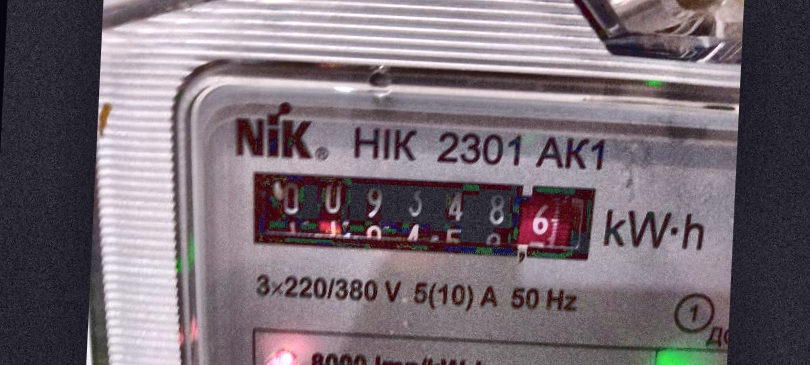0: (321, 180, 344, 217), (280, 180, 302, 216)
3: (403, 185, 426, 218)
4: (443, 186, 465, 224)
6: (529, 201, 553, 236)
8: (486, 190, 507, 225)
9: (364, 183, 383, 218)
screen: (226, 155, 615, 275)
